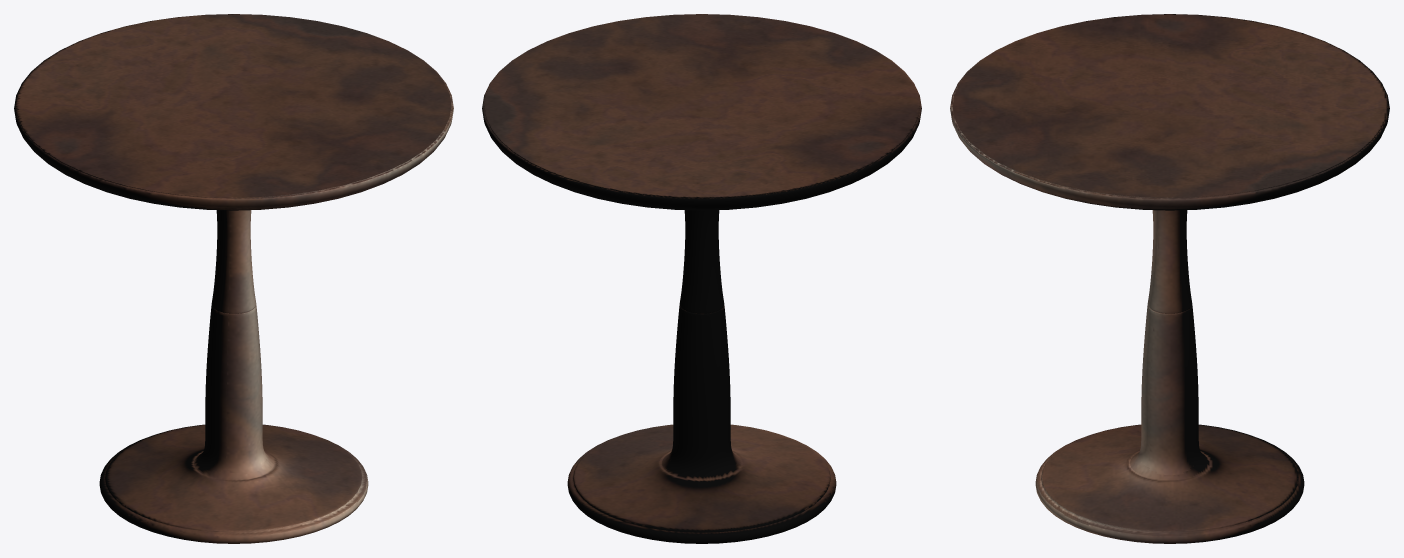
File: tablebake.fbx
3 renders of one model, left to right at view 1: azimuth 30°, elevation 25°; view 2: azimuth 150°, elevation 25°; view 3: azimuth 270°, elevation 25°, orthographic.
Parts seen in each view (by area): view 1: table; view 2: table; view 3: table.
Part boxes in pixels (x1,y1,x2,y2): table: [14, 14, 453, 543]; table: [482, 14, 921, 543]; table: [950, 14, 1389, 543].
Bounding box in the file's own units: 64.04 × 61.38 × 64.04.
